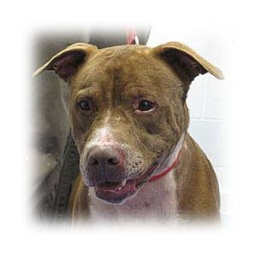dog: (30, 37, 227, 227)
